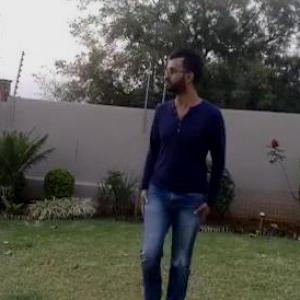follow: (130, 43, 227, 299)
